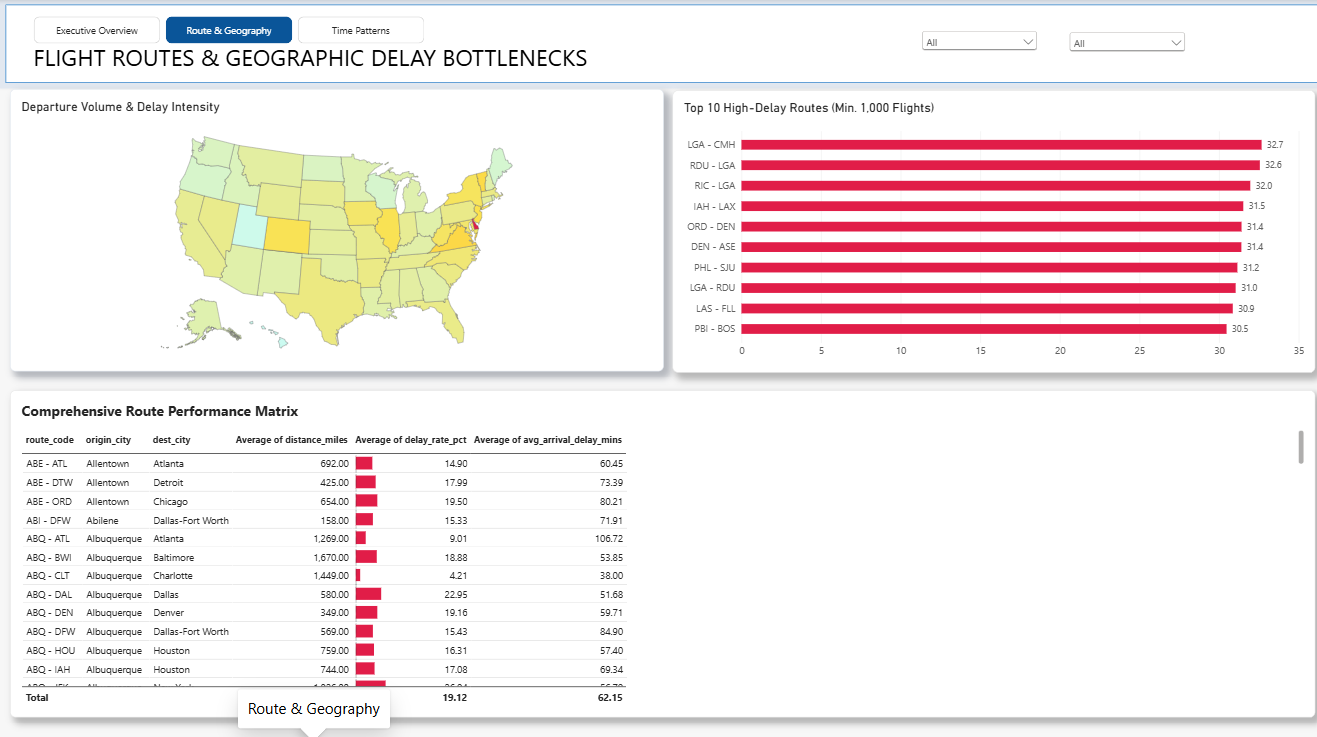

Layout of this report page (visuals, bound fields, positions):
{"tool":"powerbi","page":{"name":"Route & Geography","canvas":[1920,1080],"ordinal":1},"visuals":[{"type":"shape","box":[0,0,1920.4,129.7],"z":0},{"type":"slicer","fields":{"Values":["analytics route_performance.dest_state"]},"box":[1543.6,43.4,177,43.2],"z":1000},{"type":"slicer","fields":{"Values":["analytics route_performance.dest_city"]},"box":[1329.4,42.4,176.2,42.4],"z":2000},{"type":"shapeMap","title":"Departure Volume & Delay Intensity","fields":{"Category":["analytics route_performance.origin_state"],"Value":["Avg(analytics route_performance.delay_rate_pct)"]},"box":[14.7,130.2,946.4,409],"z":3000},{"type":"clusteredBarChart","title":"Top 10 High-Delay Routes (Min. 1,000 Flights)","fields":{"Category":["analytics route_performance.route_code"],"Y":["_Measures.Top Route Delay Rate"]},"box":[973.9,132.1,931.8,409],"z":4000},{"type":"tableEx","title":"Comprehensive Route Performance Matrix","fields":{"Values":["analytics route_performance.route_code","analytics route_performance.origin_city","analytics route_performance.dest_city","Avg(analytics route_performance.distance_miles)","Avg(analytics route_performance.delay_rate_pct)","Avg(analytics route_performance.avg_arrival_delay_mins)"]},"box":[14.7,566.8,1891,473.2],"z":5000},{"type":"pageNavigator","box":[48.9,25.3,566.4,39.8],"z":6000}]}

Visuals, with their boxes on the page's 1920x1080 design canvas (x1, y1, x2, y2). These are canvas units, not pixel positions in the 1317x737 screenshot, which may show the page scaled, cropped or inside an application window:
shape: 0/0/1920/130
slicer - analytics route_performance.dest_state: 1544/43/1721/87
slicer - analytics route_performance.dest_city: 1329/42/1506/85
"Departure Volume & Delay Intensity" shapeMap: 15/130/961/539
"Top 10 High-Delay Routes (Min. 1,000 Flights)" clusteredBarChart: 974/132/1906/541
"Comprehensive Route Performance Matrix" tableEx: 15/567/1906/1040
pageNavigator: 49/25/615/65
